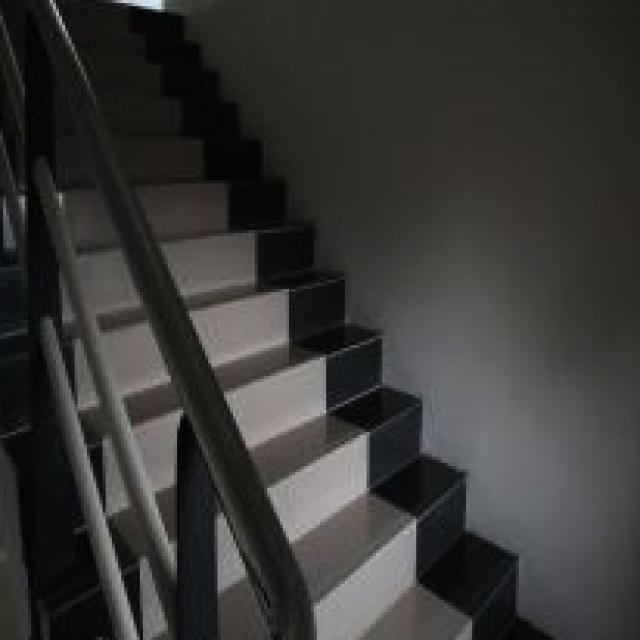upstair: (91, 1, 253, 206)
